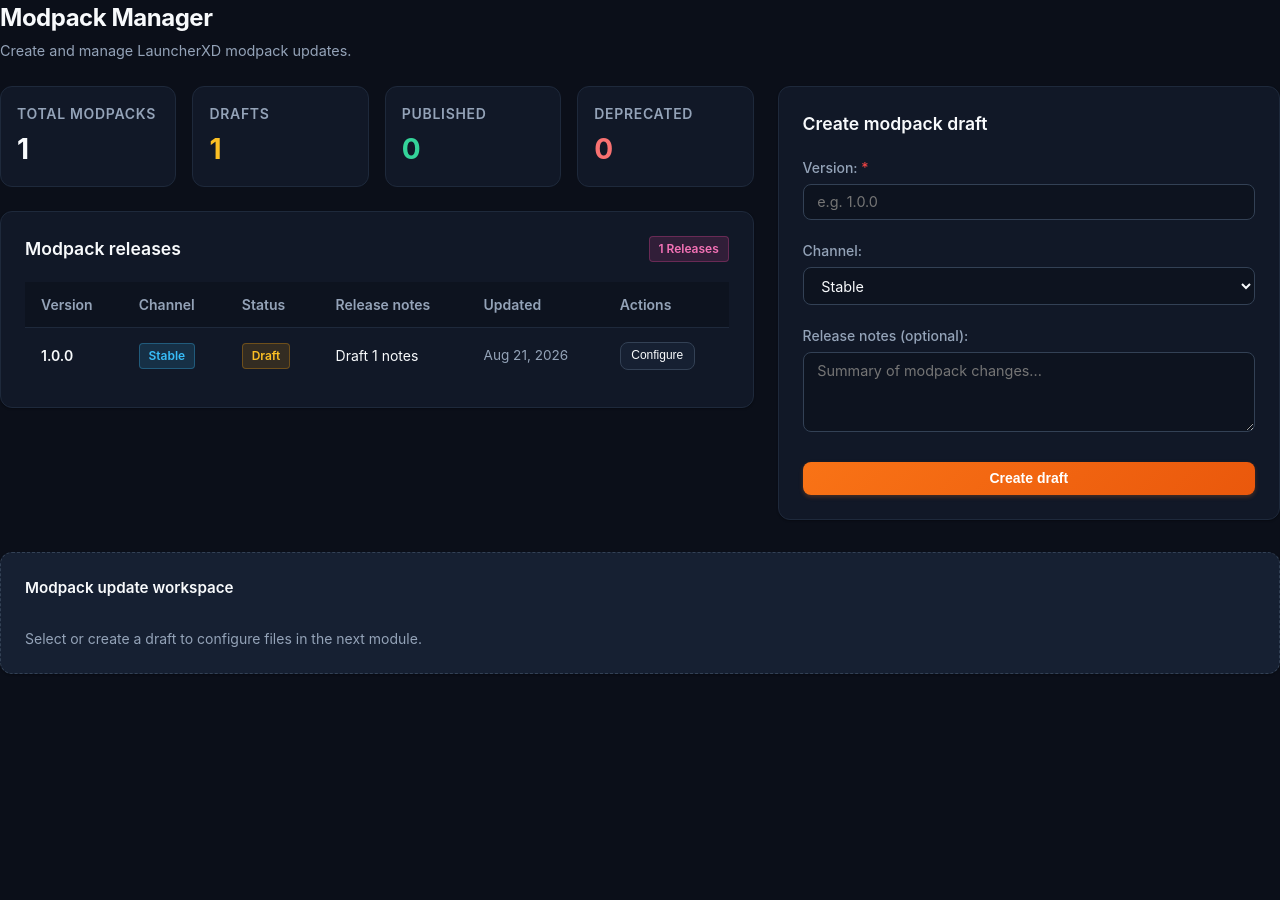
Test: Modpack Publish & GitHub Integration UI Functional Tests (Module 3B-2) › 5. Incorrect version confirmation prevents Publish
Click the button with test id "configure-modpack-modpack-draft-1" at [657, 356], box [620,342,695,370]
(page scrolled)
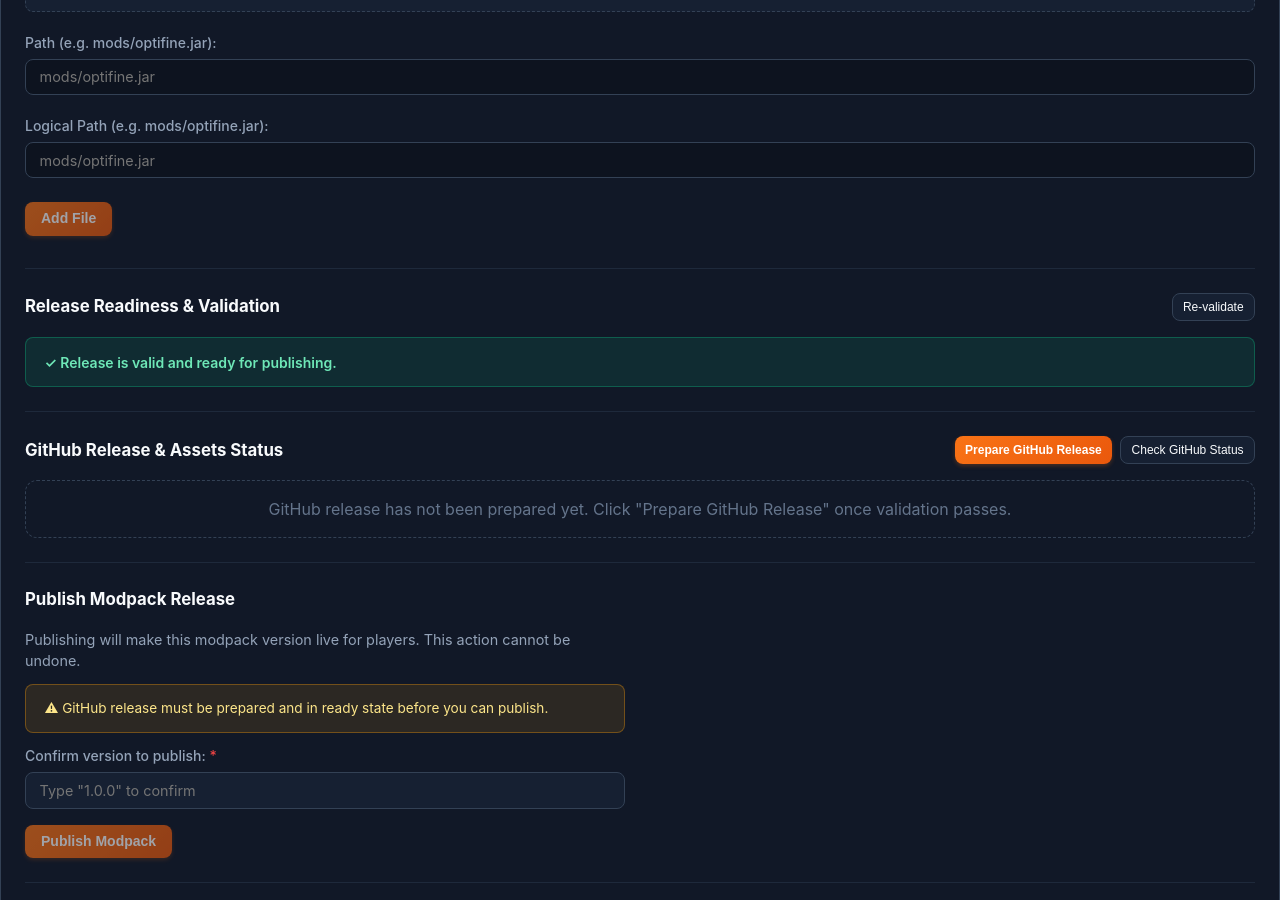
Click the button with test id "check-github-status-btn" at [1188, 450], box [1120,436,1255,464]
(page scrolled)
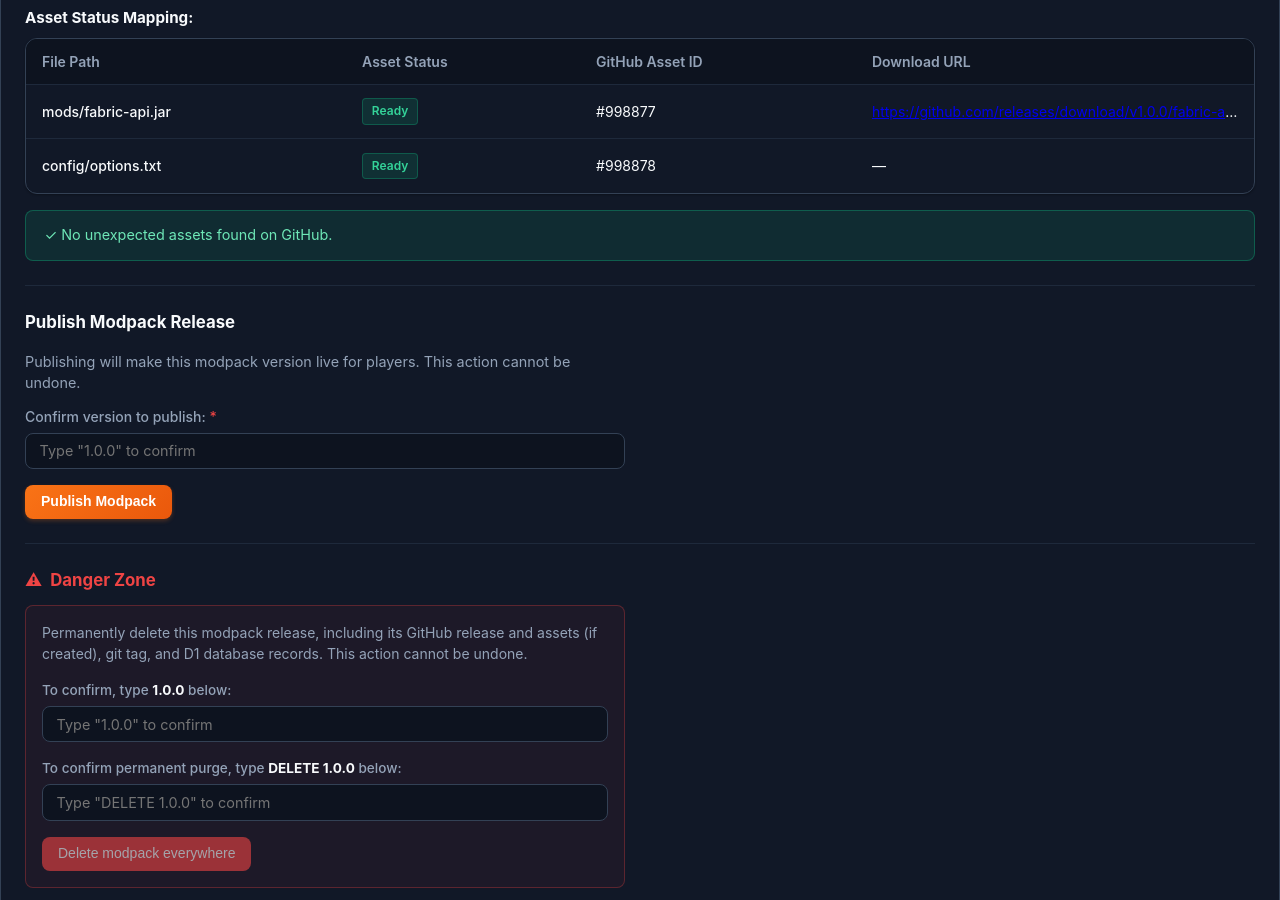
Type "9.9.9" into the field with test id "confirm-version-input" at [325, 451], box [25,433,625,469]
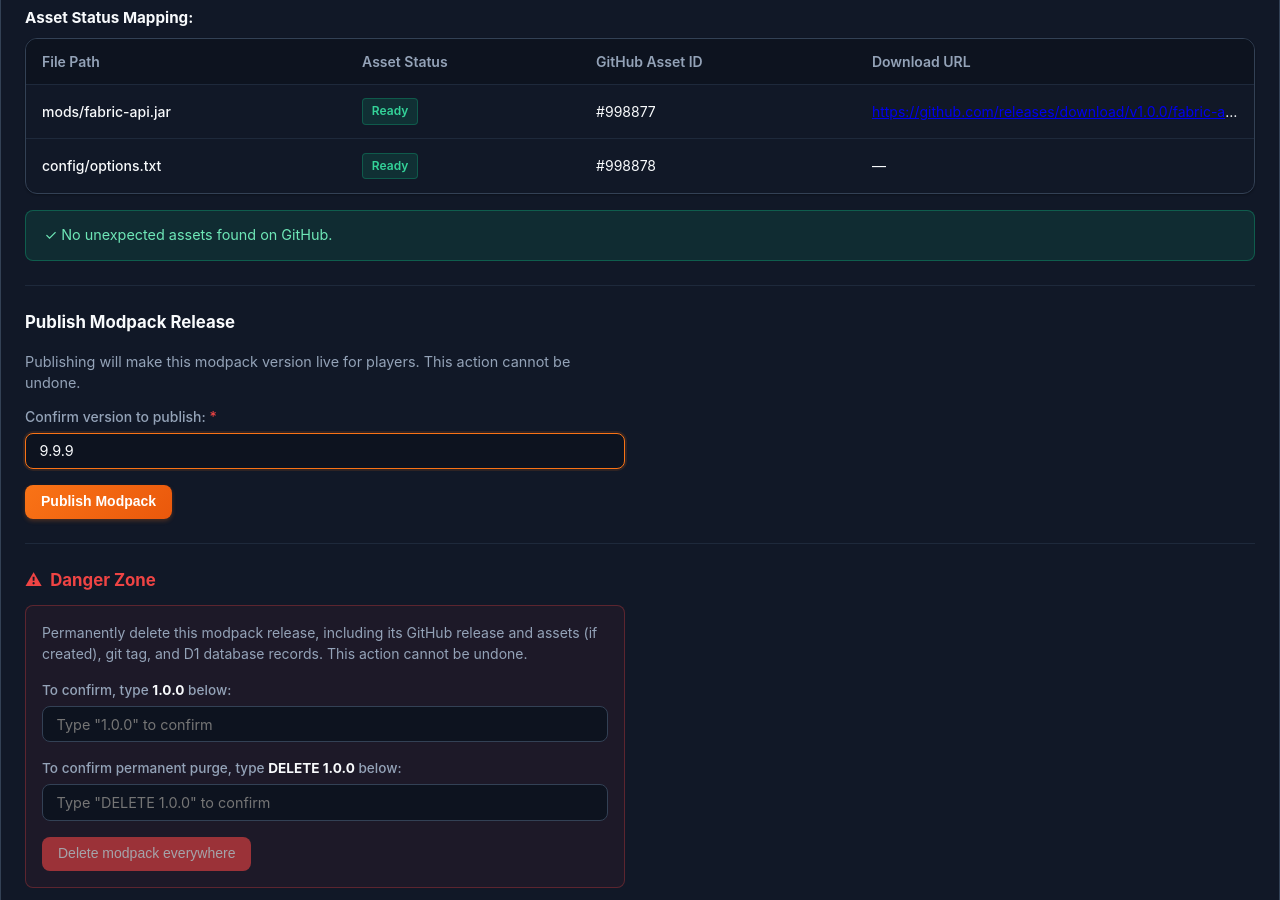
Click the button with test id "publish-release-btn" at [99, 502], box [25,485,172,519]
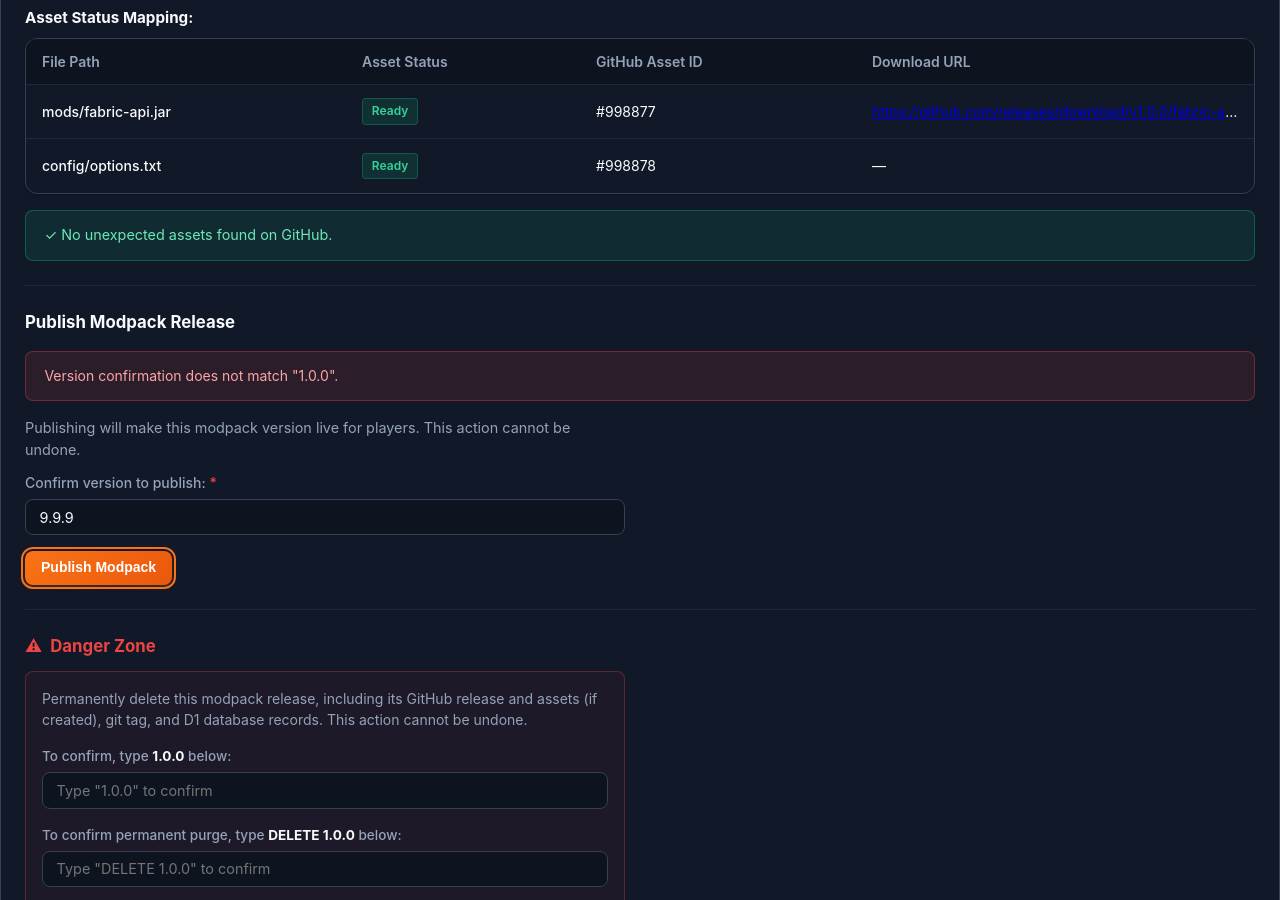
Result: the text "Version confirmation does not match \"1.0.0\"." is shown at [25,351,1255,401]
